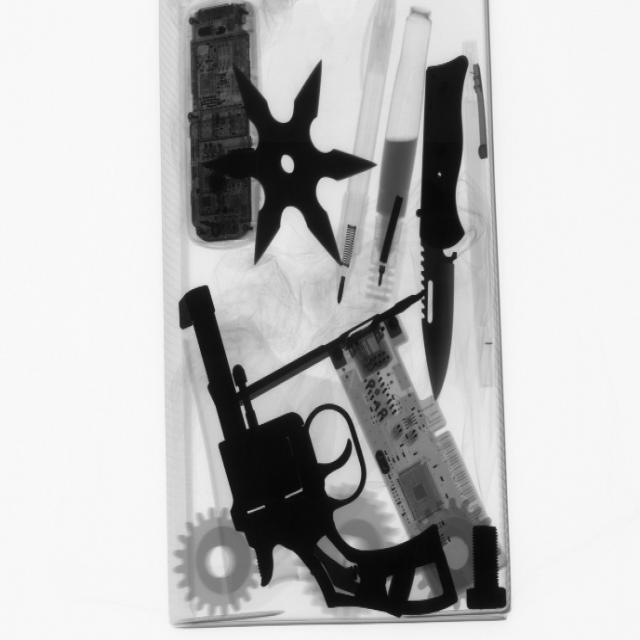GUN: (179, 279, 465, 631)
KNIFE: (406, 55, 482, 391)
SHURIKEN: (211, 58, 373, 270)
